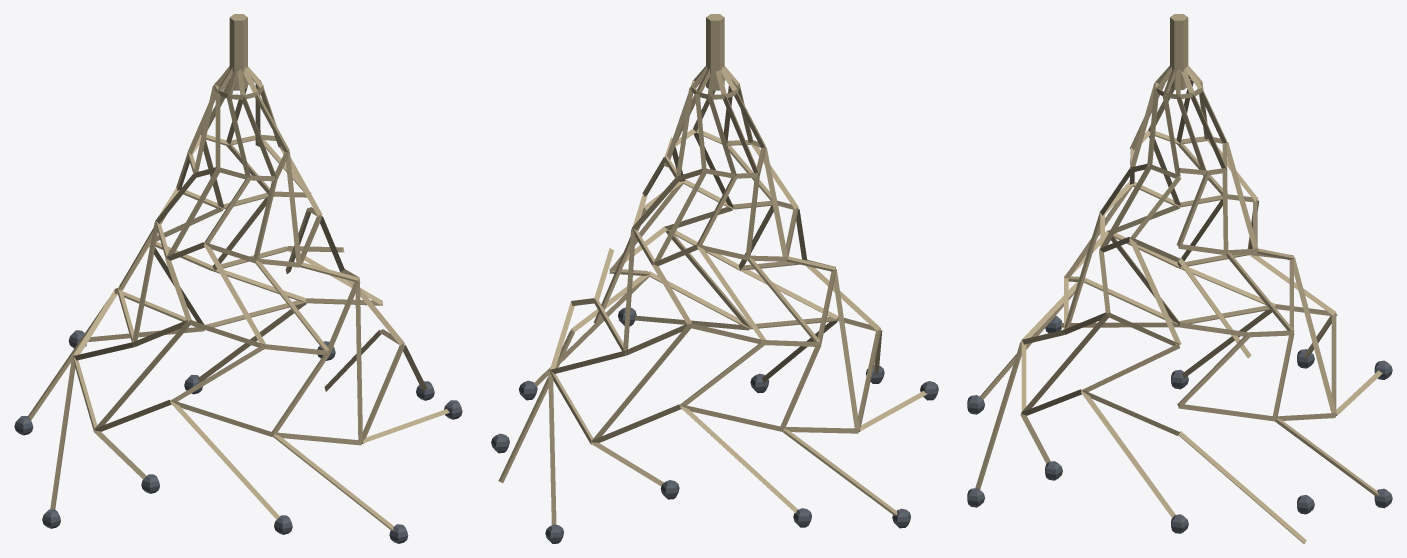
The model's file is g-net.glb.
3 renders of one model, left to right at view 1: azimuth 30°, elevation 25°; view 2: azimuth 150°, elevation 25°; view 3: azimuth 270°, elevation 25°, orthographic.
Parts seen in each view (by area): view 1: g-net; view 2: g-net; view 3: g-net.
Boxes of the visible parts, x1,y1,x2,y2 form: g-net: (14, 14, 462, 543); g-net: (491, 14, 938, 543); g-net: (967, 14, 1392, 543).
Size of the model in its own units: 0.5847 by 0.6645 by 0.5561.
